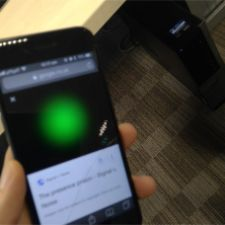focus: (36, 92, 92, 149)
